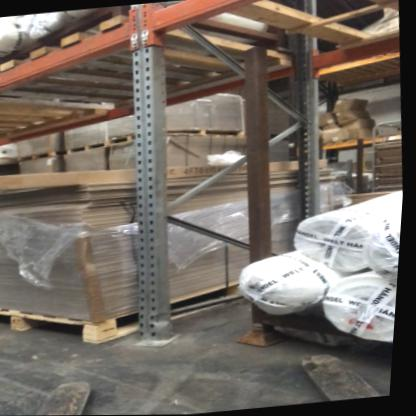vertical_damage: (130, 302, 192, 343)
